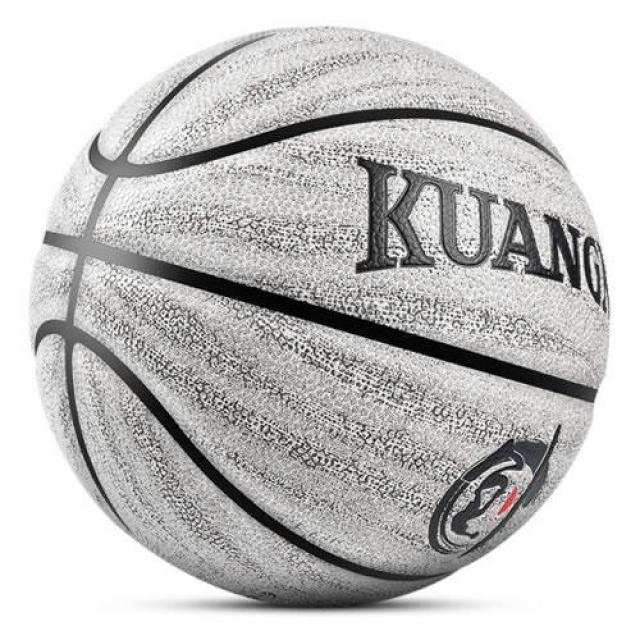ball: (25, 26, 598, 602)
